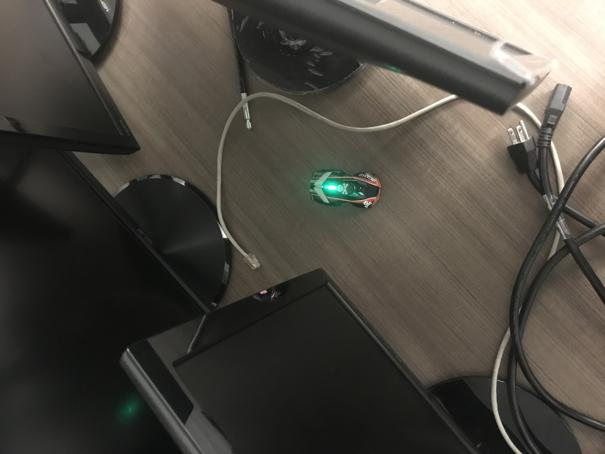Skull: (307, 168, 382, 209)
